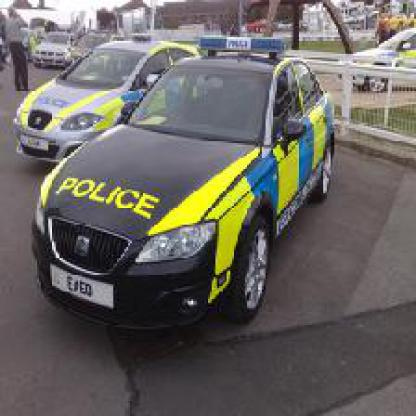emergency: (6, 32, 375, 349), (11, 30, 202, 161), (334, 20, 414, 95)
not_emergency: (29, 16, 77, 68)
